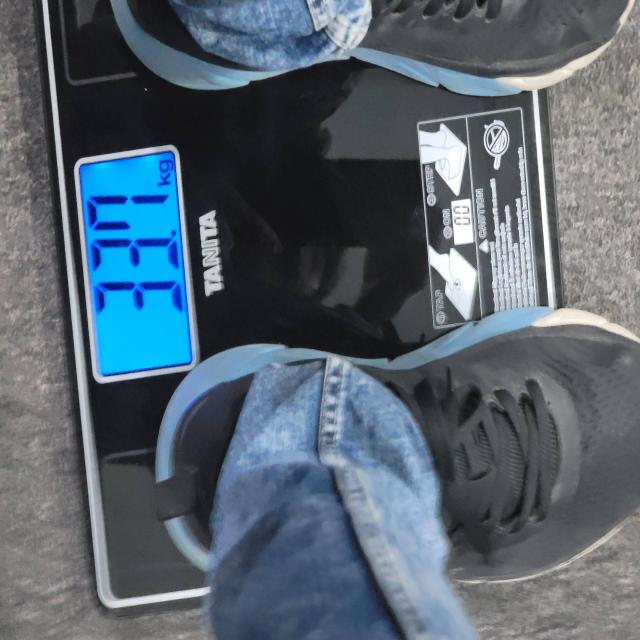ws: (71, 145, 202, 387)
